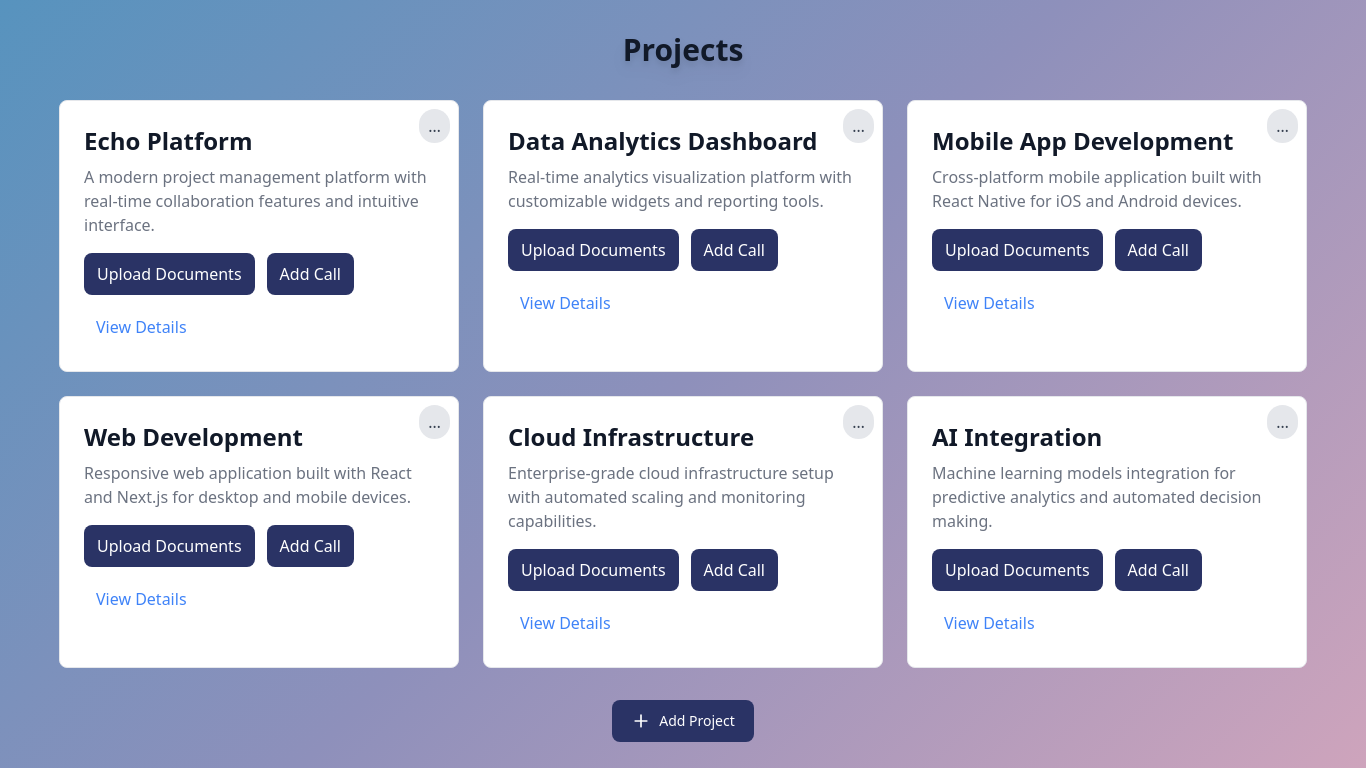
Test: Projects › opens Add Project modal when button is clicked
The image size is (1366, 768).
Expected: the heading "Echo Platform" is shown, [84, 124, 253, 157]
What coordinates should you click on to do the following:
click the button "Add Project"
I would click on:
 (683, 721)
Its box is [612, 700, 754, 742].
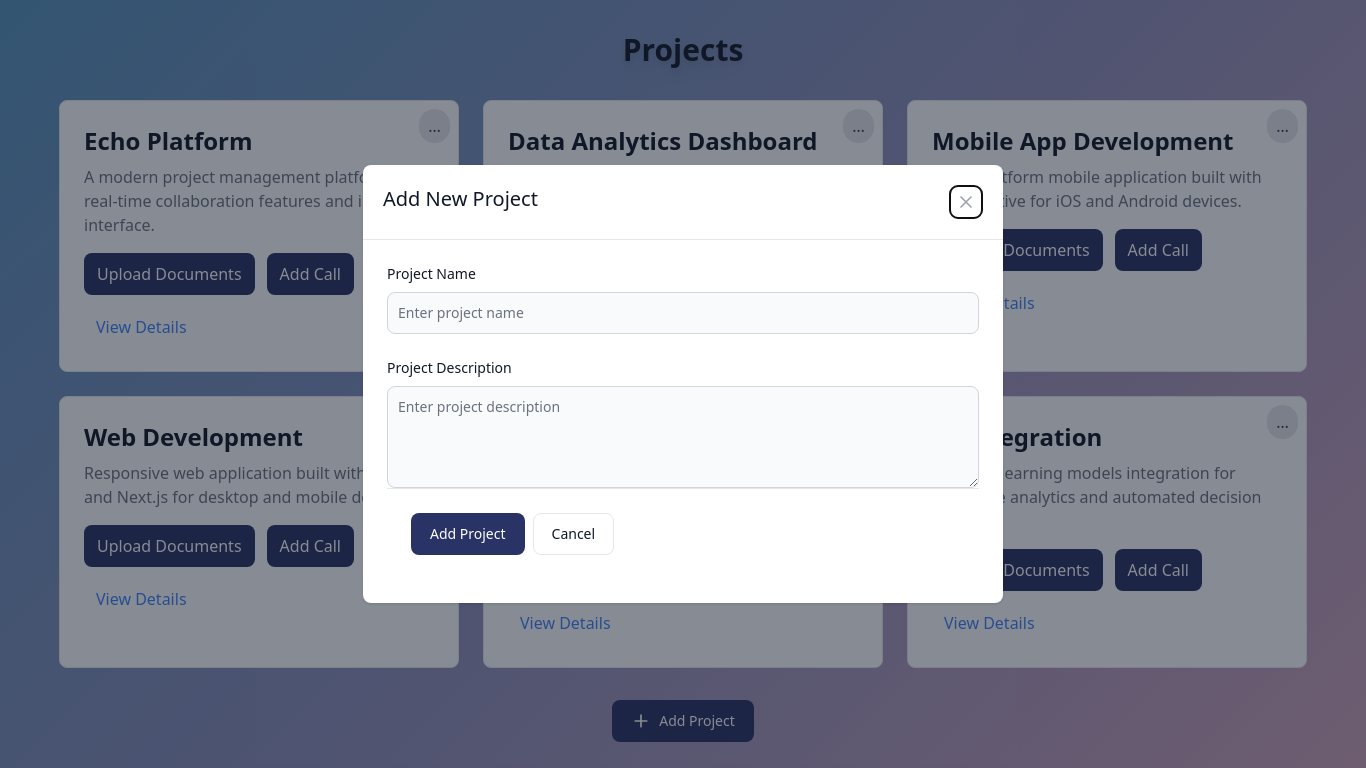
Expected: the heading "Add New Project" is shown, [383, 185, 538, 213]
Expected: the field with test id "project-name-input" is shown, [387, 292, 979, 334]
Expected: the text box with test id "project-description-input" is shown, [387, 386, 979, 488]
